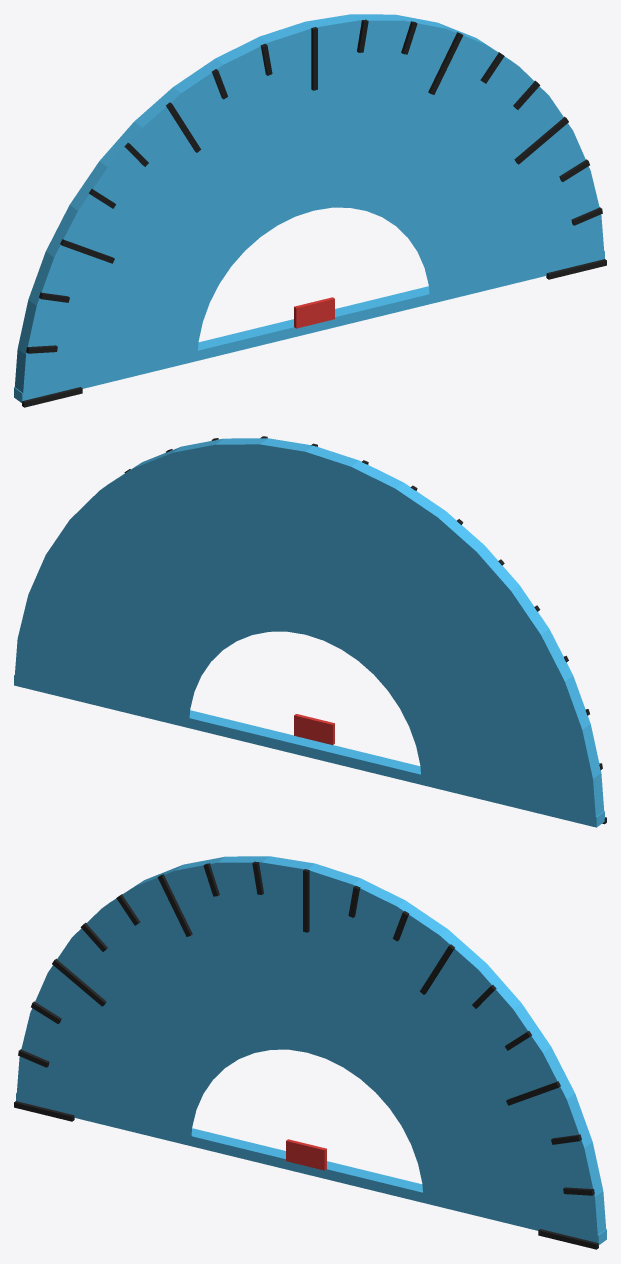
Rendered from gradskiva.glb.
The picture shows the model from 3 angles, top to bottom: view 1: azimuth 30°, elevation 25°; view 2: azimuth 150°, elevation 25°; view 3: azimuth 330°, elevation 25°; orthographic projection.
Parts seen in each view (by area): view 1: gradskiva; view 2: gradskiva; view 3: gradskiva.
Boxes of the visible parts, x1,y1,x2,y2 form: gradskiva: (14,14,606,407); gradskiva: (14,436,606,827); gradskiva: (14,856,606,1249).
Bounding box in the file's own units: 0.6 × 0.3025 × 0.0185.
